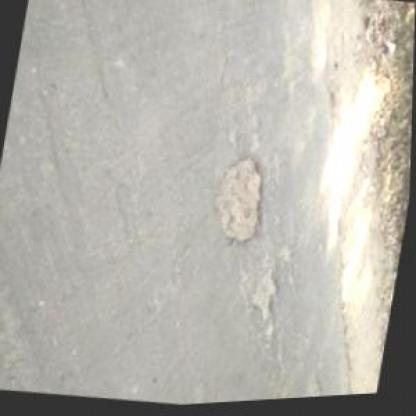pothole: (206, 152, 274, 252), (247, 269, 284, 330)
